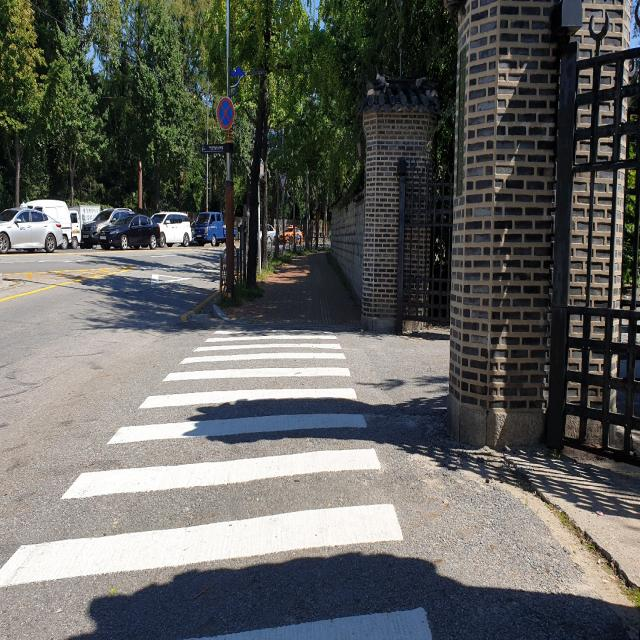횡단보도: (0, 326, 434, 640)
